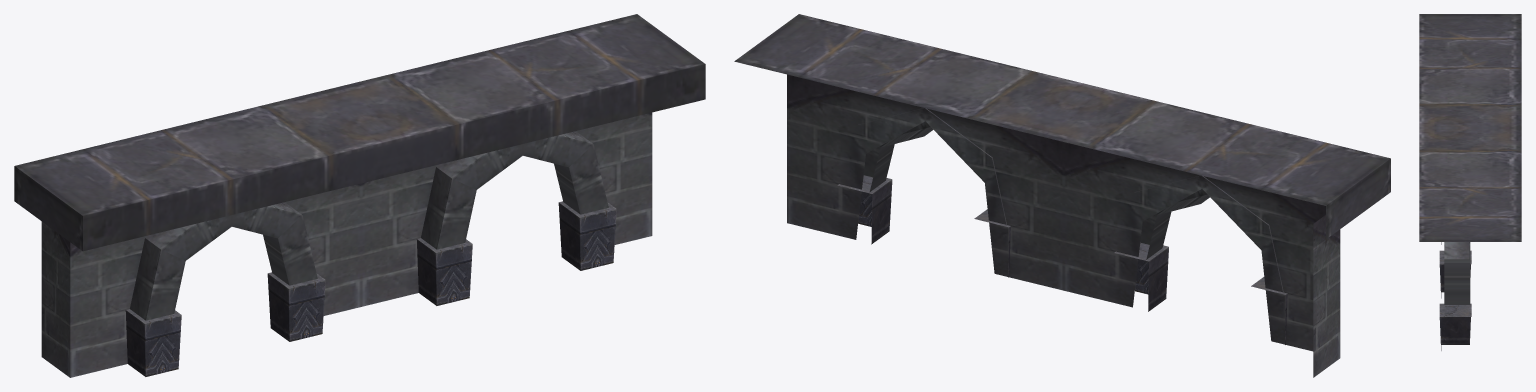
File: building_underground_shigong.FBX
The picture shows the model from 3 angles, left to right: view 1: azimuth 30°, elevation 25°; view 2: azimuth 150°, elevation 25°; view 3: azimuth 270°, elevation 25°; orthographic projection. The views are drawn at different scales.
Visible parts, largest first — view 1: building_underground_shigong; view 2: building_underground_shigong; view 3: building_underground_shigong.
Part boxes in pixels (x1,y1,x2,y2): building_underground_shigong: (14,14,705,377); building_underground_shigong: (734,14,1390,377); building_underground_shigong: (1419,14,1521,350).
Bounding box in the file's own units: 26.75 × 7.84 × 5.09.
